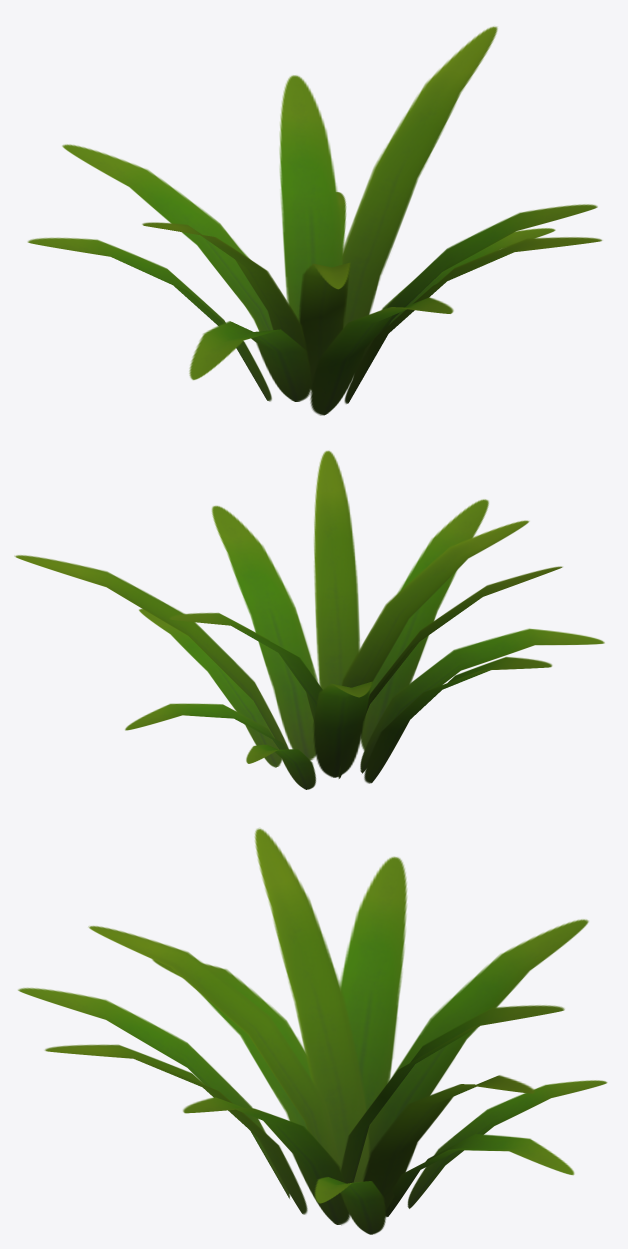
Rendered from plant_01.glb.
3 renders of one model, top to bottom at view 1: azimuth 30°, elevation 25°; view 2: azimuth 150°, elevation 25°; view 3: azimuth 270°, elevation 25°, orthographic. The views are drawn at different scales.
Visible parts, largest first — view 1: SM_Plant_01_LOD0; view 2: SM_Plant_01_LOD0; view 3: SM_Plant_01_LOD0.
Boxes of the visible parts, x1=… form: SM_Plant_01_LOD0: x1=27, y1=26, x2=602, y2=415; SM_Plant_01_LOD0: x1=14, y1=450, x2=604, y2=789; SM_Plant_01_LOD0: x1=18, y1=828, x2=607, y2=1234.
Size of what is drawn, in the model's own units: 0.00466 by 0.00208 by 0.00409.
Materials: 1 (1 with a texture image).
